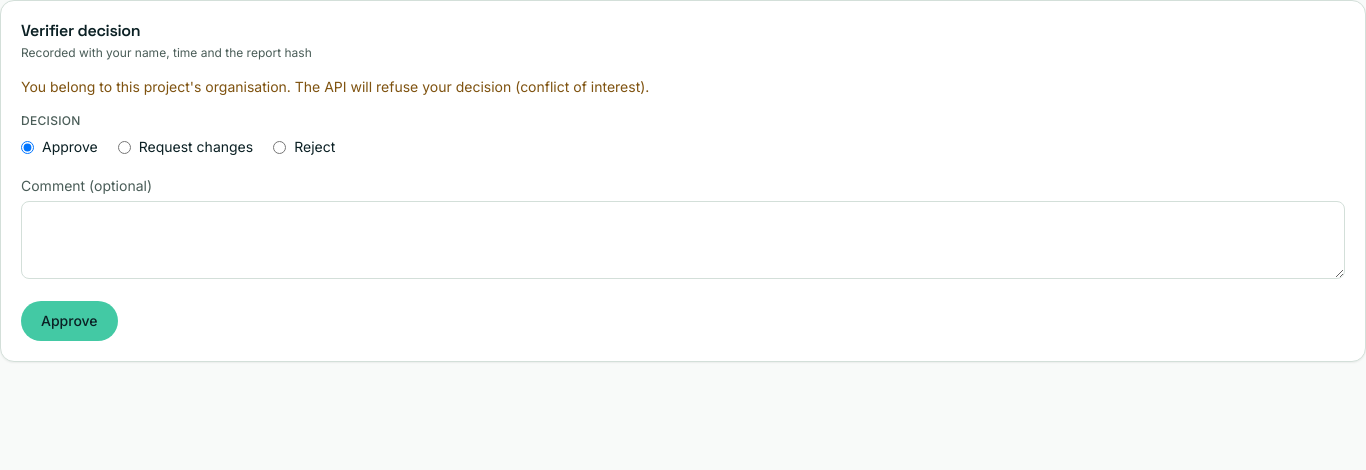
Test case: ReviewPanel › shows the API's conflict-of-interest message
The width and height of the screenshot is (1366, 470).
Expected: the text "conflict of interest" is shown, 21,78 -> 649,95
Click the button "Approve". click: (69, 321)
box: 21,301 -> 118,341
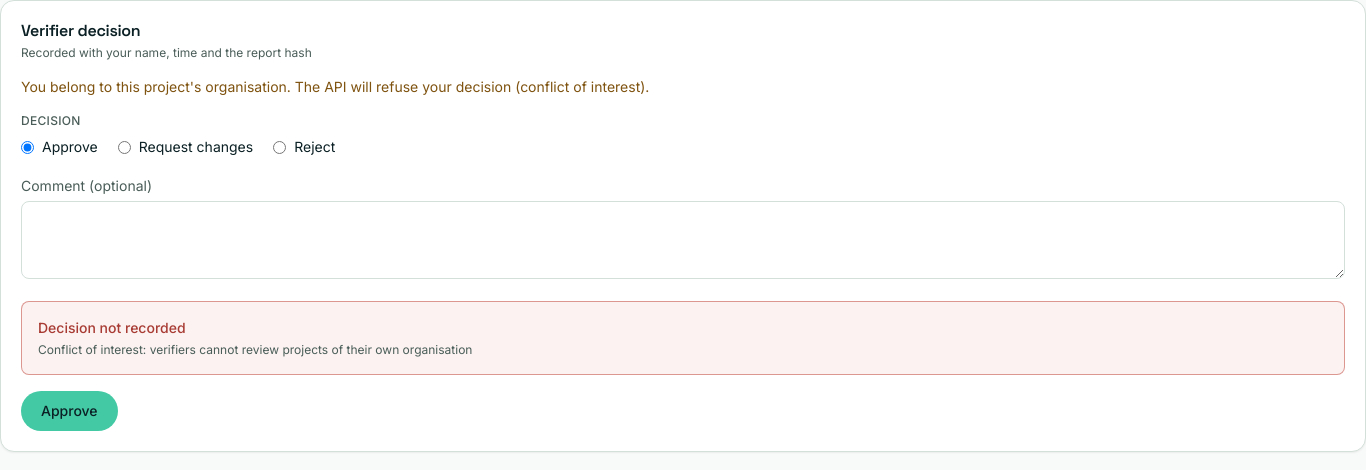
Result: the message shows "Conflict of interest: verifiers cannot review projects of their own organisation" at 38,342 -> 472,357
